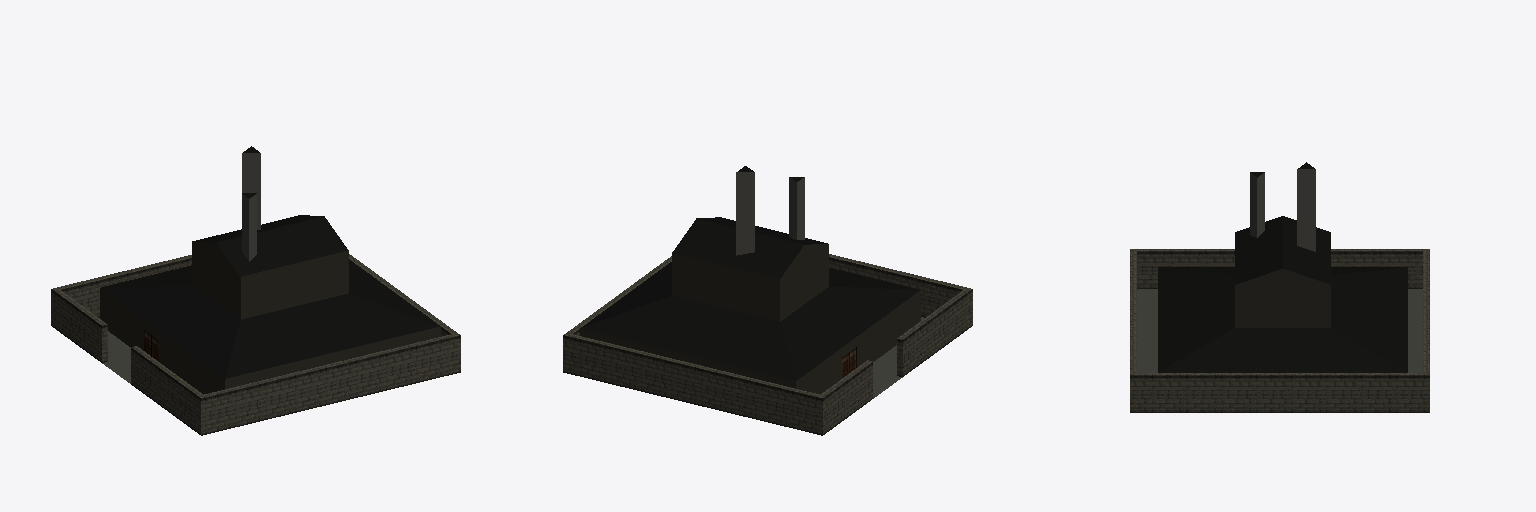
3 views of the same model, side by side, from view 1: azimuth 30°, elevation 25°; view 2: azimuth 150°, elevation 25°; view 3: azimuth 270°, elevation 25° (orthographic).
Visible parts, largest first — view 1: factory1; view 2: factory1; view 3: factory1.
Boxes of the visible parts, x1,y1,x2,y2 form: factory1: [51, 146, 460, 435]; factory1: [563, 166, 972, 435]; factory1: [1130, 162, 1429, 412].
Bounding box in the file's own units: 48 × 33.04 × 48.
6 materials, 2 textured.